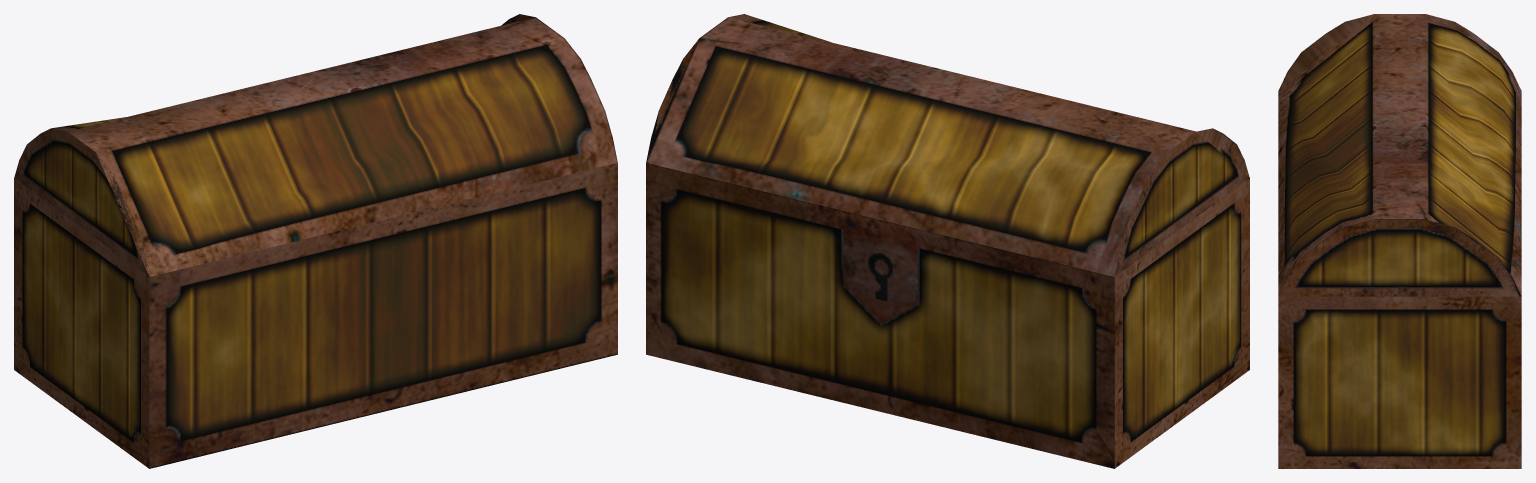
File: TexturedBox.obj
3 views of the same model, side by side, from view 1: azimuth 30°, elevation 25°; view 2: azimuth 150°, elevation 25°; view 3: azimuth 270°, elevation 25° (orthographic). The views are drawn at different scales.
Visible parts, largest first — view 1: pCube2; view 2: pCube2; view 3: pCube2.
Boxes of the visible parts, x1,y1,x2,y2 form: pCube2: [14, 14, 617, 468]; pCube2: [646, 14, 1249, 468]; pCube2: [1278, 14, 1521, 468].
Size of the model in its own units: 8 by 4.53 by 4.
1 material, 1 textured.
